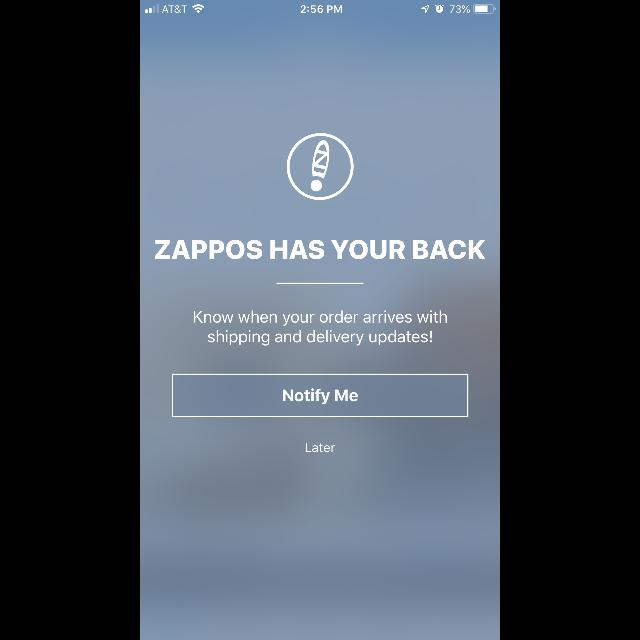image: (286, 134, 354, 200)
text: (195, 310, 448, 346), (155, 240, 485, 260), (306, 443, 334, 453)
textbutton: (172, 374, 468, 418)
uppertaskbar: (140, 0, 500, 14)
